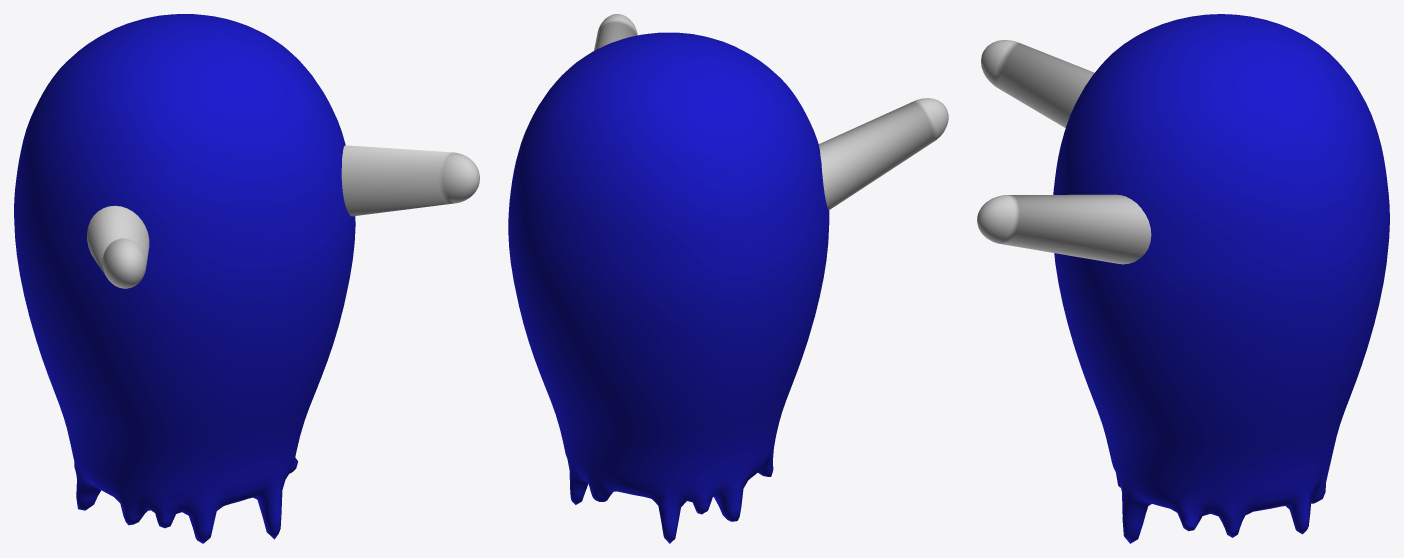
Rendered from afterThrow_000023.obj.
3 views of the same model, side by side, from view 1: azimuth 30°, elevation 25°; view 2: azimuth 150°, elevation 25°; view 3: azimuth 270°, elevation 25° (orthographic). The views are drawn at different scales.
Visible parts, largest first — view 1: Cube, Sphere, Sphere.001; view 2: Cube, Sphere.001, Sphere; view 3: Cube, Sphere, Sphere.001.
Boxes of the visible parts, x1,y1,x2,y2 form: Cube: (14,14,355,543); Sphere: (341,145,479,216); Sphere.001: (87,205,149,288); Cube: (508,32,829,543); Sphere.001: (818,98,948,209); Sphere: (594,14,637,50); Cube: (1053,14,1389,543); Sphere: (977,194,1151,264); Sphere.001: (981,40,1094,127).
Bounding box in the file's own units: 0.3614 × 0.4582 × 0.3494.
